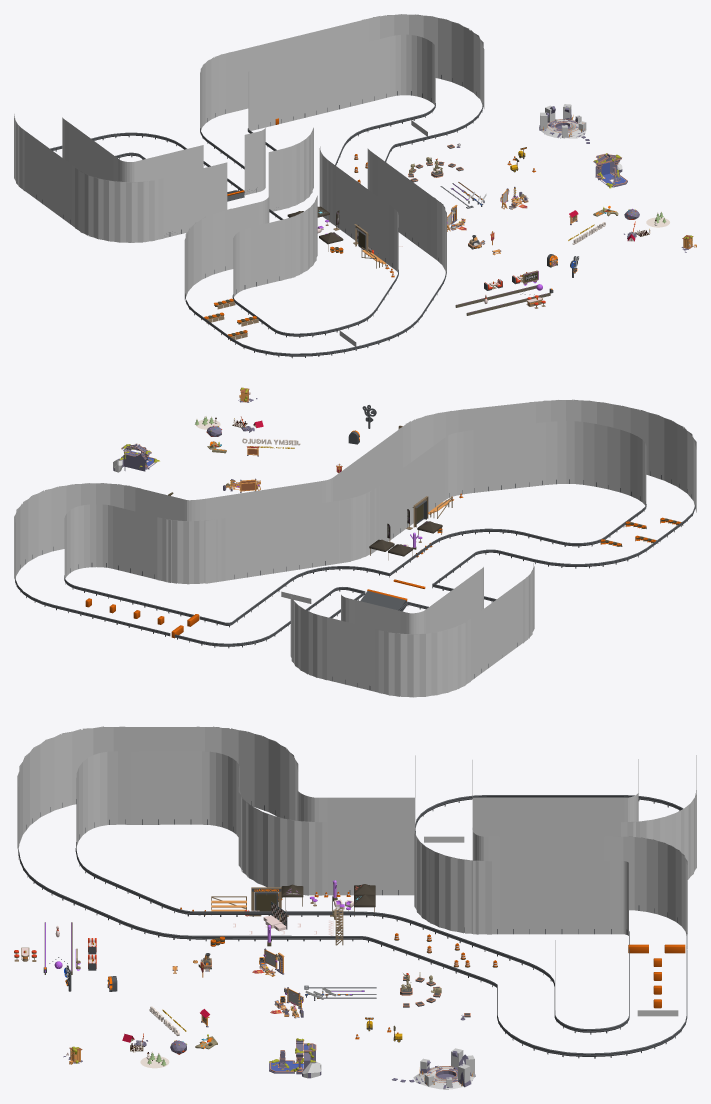
Rendered from areas.glb.
The picture shows the model from 3 angles, top to bottom: view 1: azimuth 30°, elevation 25°; view 2: azimuth 150°, elevation 25°; view 3: azimuth 270°, elevation 25°; orthographic projection. The views are drawn at different scales.
Parts seen in each view (by area): view 1: trimesh, refRailsPhysicalFixed, Cube.089, refBumpersPhysicalKinematicPositionBased, blocks; view 2: trimesh, refRailsPhysicalFixed, Cube.089, jump, Cube.088; view 3: trimesh, refRailsPhysicalFixed, Cube.088, Cube.089, Cube.173.
Part boxes in pixels (box(x1,y1,x2,y2)): trimesh: box(14, 14, 484, 299); refRailsPhysicalFixed: box(36, 75, 483, 358); Cube.089: box(593, 153, 627, 188); refBumpersPhysicalKinematicPositionBased: box(455, 285, 550, 315); blocks: box(204, 298, 258, 340); trimesh: box(14, 399, 696, 697); refRailsPhysicalFixed: box(15, 471, 695, 690); Cube.089: box(113, 443, 159, 471); jump: box(360, 579, 425, 611); Cube.088: box(370, 496, 452, 560); trimesh: box(17, 726, 696, 1009); refRailsPhysicalFixed: box(18, 795, 687, 1058); Cube.088: box(210, 887, 374, 946); Cube.089: box(269, 1038, 321, 1078); Cube.173: box(392, 1051, 475, 1088).
Size of the model in its own units: 169 by 22.1 by 169.
Materials: 26 (13 with a texture image).
